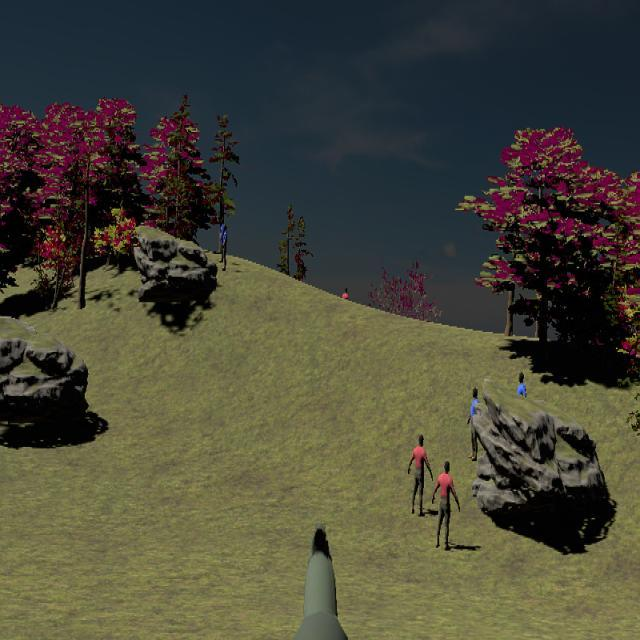Human: (431, 460, 460, 550), (432, 460, 460, 550), (408, 434, 433, 516)
